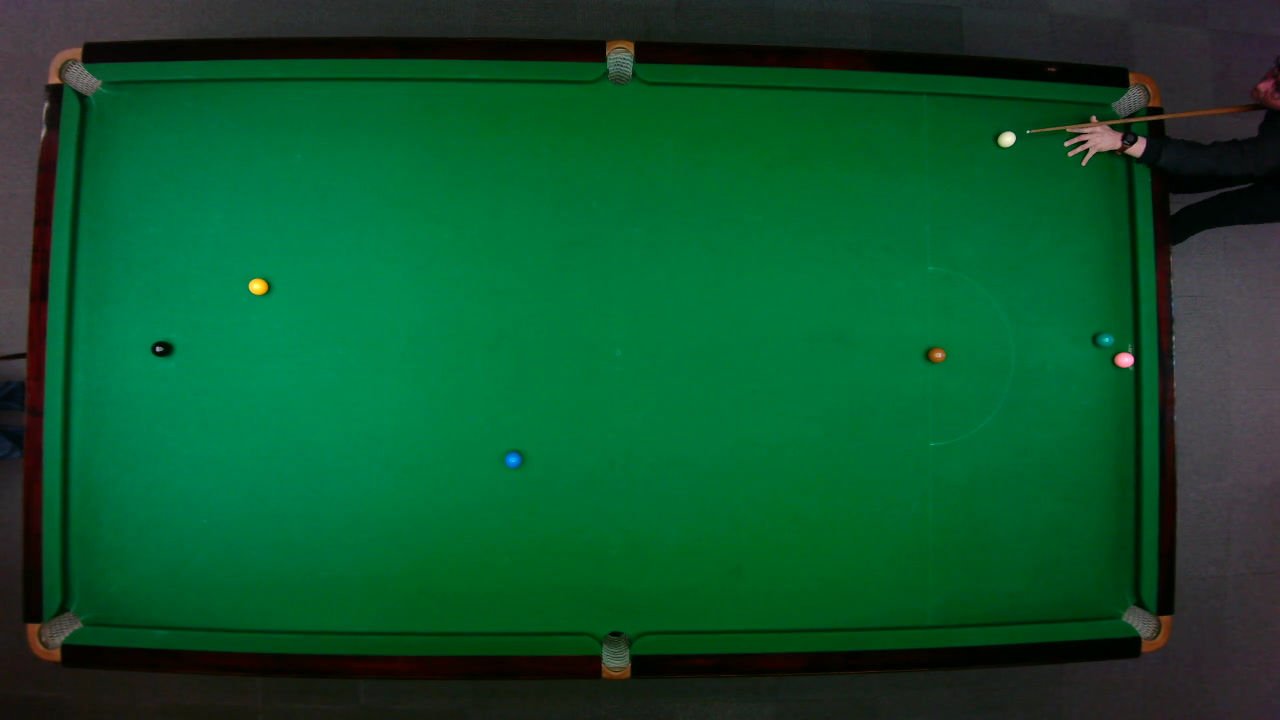bag: (25, 609, 83, 661), (45, 46, 101, 96), (1119, 603, 1172, 652), (1109, 71, 1161, 120), (600, 629, 629, 680), (605, 38, 633, 85)
black: (149, 339, 171, 357)
blue: (504, 450, 523, 468)
brown: (926, 346, 946, 362)
cue: (1024, 101, 1278, 135)
green: (1093, 330, 1115, 347)
pink: (1112, 350, 1135, 368)
white: (995, 129, 1016, 147)
yellow: (247, 276, 269, 295)
zone: (926, 265, 1014, 445)
